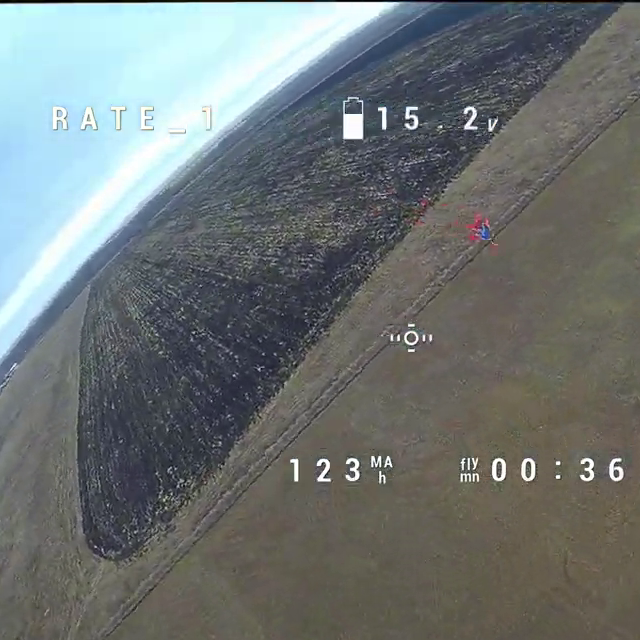drone: (463, 212, 501, 250)
